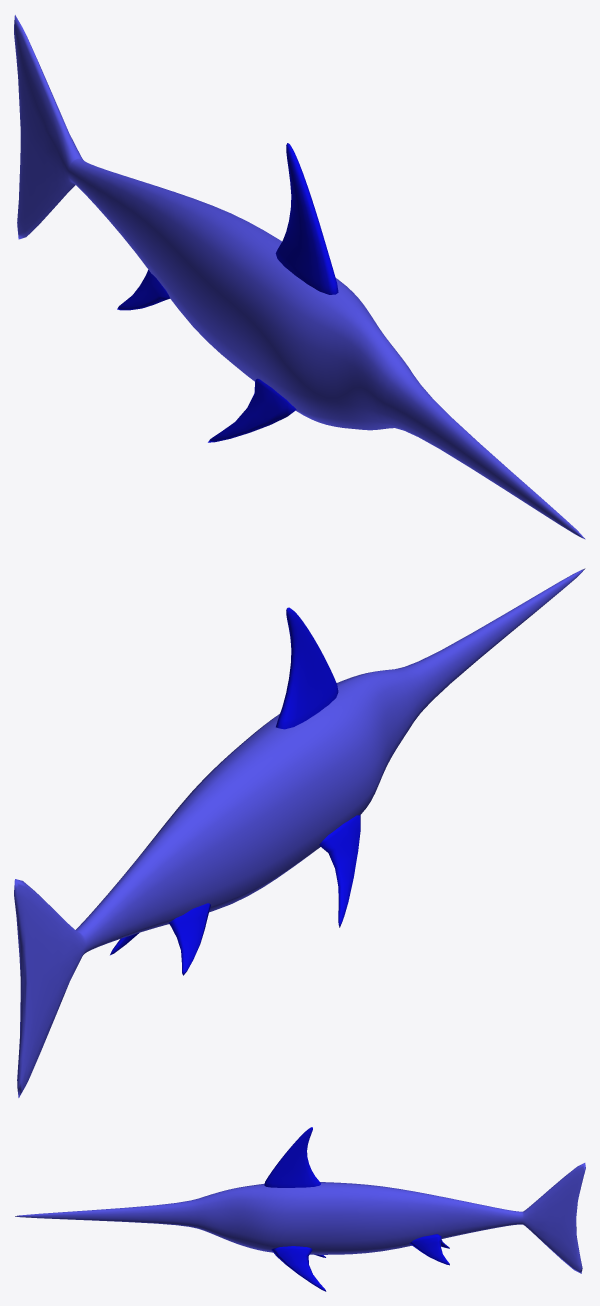
File: sword.fbx
3 renders of one model, top to bottom at view 1: azimuth 30°, elevation 25°; view 2: azimuth 150°, elevation 25°; view 3: azimuth 270°, elevation 25°, orthographic. The views are drawn at different scales.
Parts seen in each view (by area): view 1: body, nag, pCube5, pCube6; view 2: body, nag, pCube5, pCube6; view 3: body, nag, nag1, nag2.
Part boxes in pixels (bbox=[...]): body: bbox=[14, 15, 585, 539]; nag: bbox=[275, 143, 338, 294]; pCube5: bbox=[208, 378, 296, 442]; pCube6: bbox=[117, 270, 170, 310]; body: bbox=[14, 568, 585, 1097]; nag: bbox=[276, 607, 338, 729]; pCube5: bbox=[319, 815, 360, 927]; pCube6: bbox=[169, 903, 210, 975]; body: bbox=[15, 1163, 585, 1273]; nag: bbox=[264, 1127, 320, 1187]; nag1: bbox=[271, 1246, 326, 1291]; nag2: bbox=[409, 1234, 449, 1265].
Bounding box in the file's own units: 2.06 × 4.17 × 14.7.
